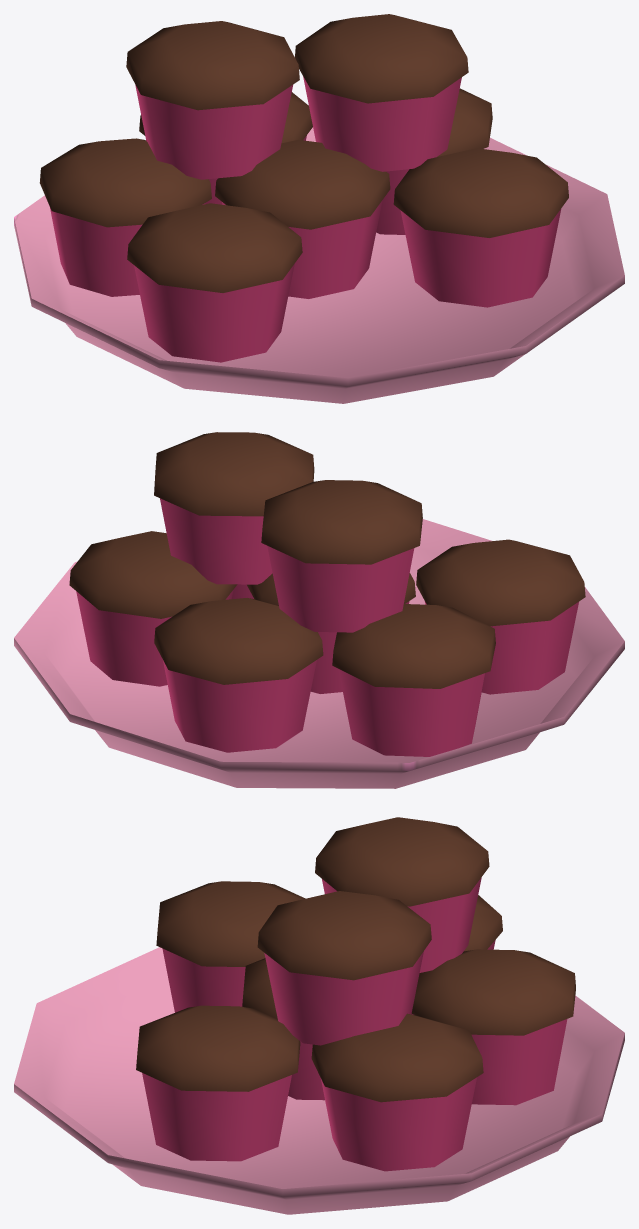
Rendered from furniture_decor_210022.glb.
3 views of the same model, one above another, from view 1: azimuth 30°, elevation 25°; view 2: azimuth 150°, elevation 25°; view 3: azimuth 270°, elevation 25° (orthographic). The views are drawn at different scales.
Parts seen in each view (by area): view 1: furniture_decor_210022; view 2: furniture_decor_210022; view 3: furniture_decor_210022.
Part boxes in pixels (bbox=[...]): furniture_decor_210022: bbox=[14, 14, 624, 403]; furniture_decor_210022: bbox=[14, 432, 624, 788]; furniture_decor_210022: bbox=[14, 817, 624, 1214].
Size of the model in its own units: 0.2812 by 0.118 by 0.2777.
1 material, 1 textured.
